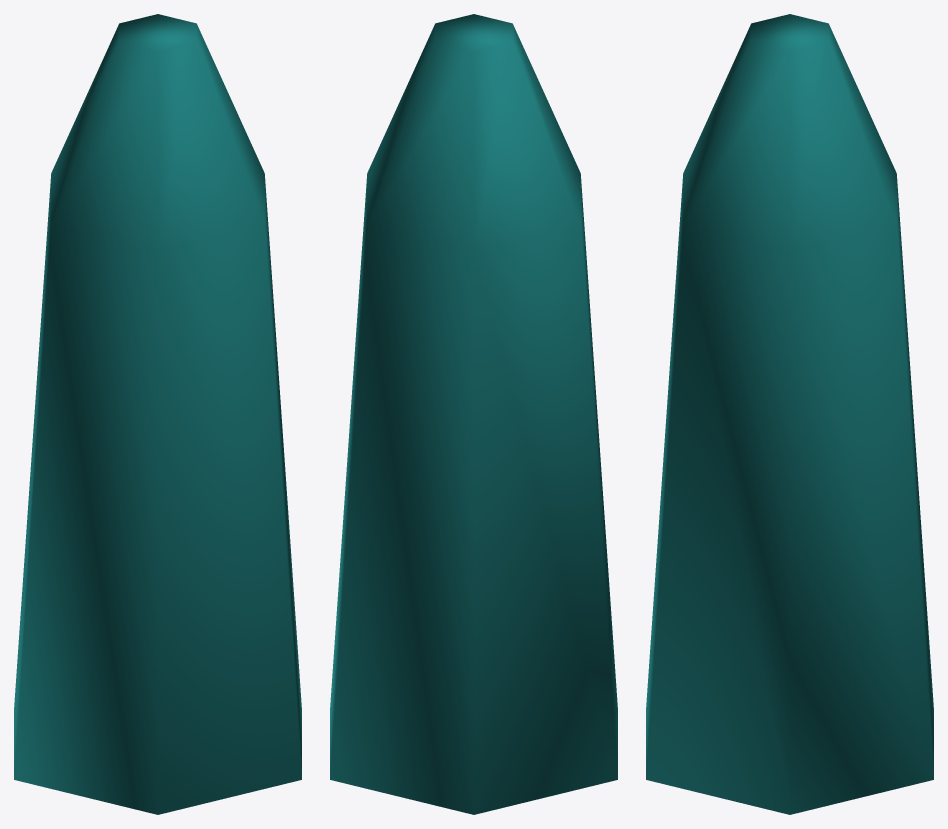
The model's file is chess_piece_bishop_collider.fbx.
The picture shows the model from 3 angles, left to right: view 1: azimuth 30°, elevation 25°; view 2: azimuth 150°, elevation 25°; view 3: azimuth 270°, elevation 25°; orthographic projection.
Parts seen in each view (by area): view 1: chess_piece_bishop_collider; view 2: chess_piece_bishop_collider; view 3: chess_piece_bishop_collider.
Boxes of the visible parts, <box> form: chess_piece_bishop_collider: <box>14,14,301,814</box>; chess_piece_bishop_collider: <box>330,14,617,814</box>; chess_piece_bishop_collider: <box>646,14,933,814</box>.
Bounding box in the file's own units: 3.5 × 8.26 × 3.03.
